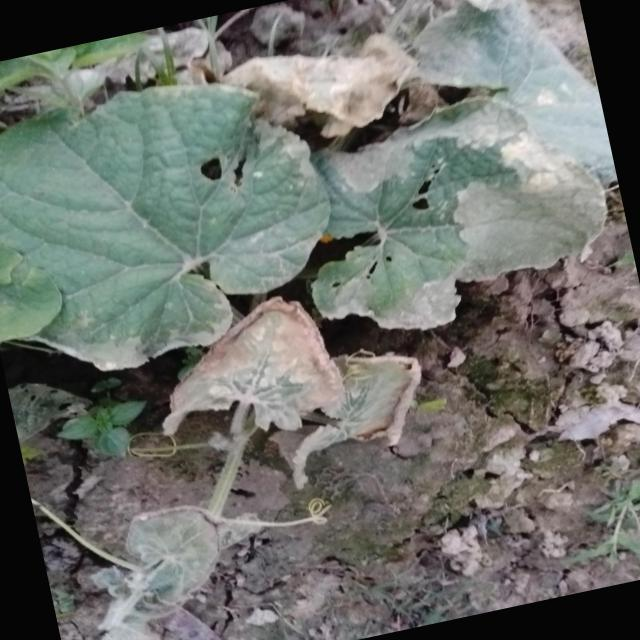cucumber_bacterial: (0, 43, 364, 391), (272, 67, 622, 354), (130, 264, 374, 493), (200, 0, 422, 165), (63, 492, 276, 640), (265, 352, 436, 492)
